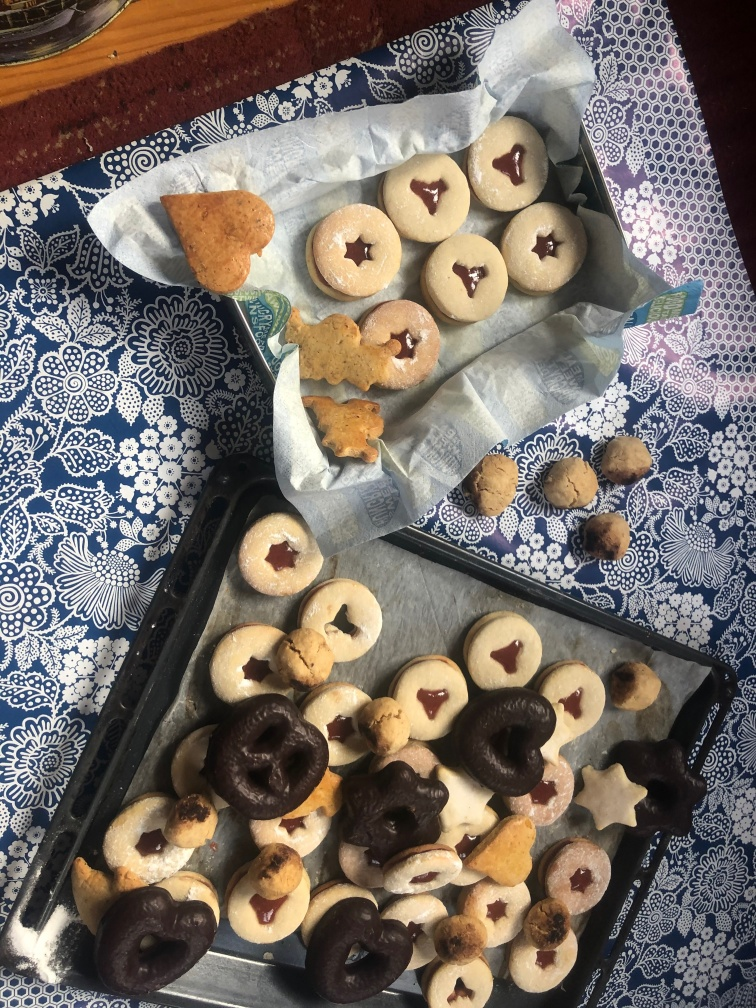bretzel: (224, 694, 326, 818)
christmas shortbread with jam: (301, 202, 401, 301), (469, 111, 552, 212), (233, 505, 328, 593), (383, 148, 470, 243), (425, 233, 511, 323), (501, 204, 589, 290), (104, 790, 188, 879), (302, 577, 384, 665), (362, 299, 441, 390), (223, 861, 311, 939), (460, 609, 540, 690), (206, 622, 288, 700), (302, 683, 373, 768), (394, 655, 465, 739), (548, 838, 612, 915), (546, 662, 606, 741), (508, 928, 577, 988), (379, 850, 461, 900), (513, 757, 572, 823), (246, 814, 331, 856), (423, 957, 497, 999)
heart: (95, 885, 216, 994), (155, 189, 278, 288), (302, 896, 410, 1006), (451, 688, 562, 789), (463, 810, 537, 885)
santa claus: (280, 305, 395, 389), (305, 389, 386, 466)
snowball: (539, 455, 597, 518), (607, 656, 662, 717), (468, 452, 521, 515), (278, 625, 330, 688), (249, 842, 306, 898), (598, 432, 658, 482), (167, 795, 224, 842), (519, 899, 577, 944), (593, 507, 633, 559), (433, 911, 479, 955)
star: (603, 732, 711, 839), (579, 762, 647, 833)
